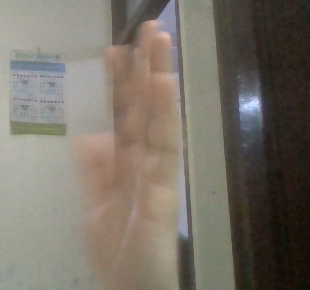move: (68, 17, 232, 290)
